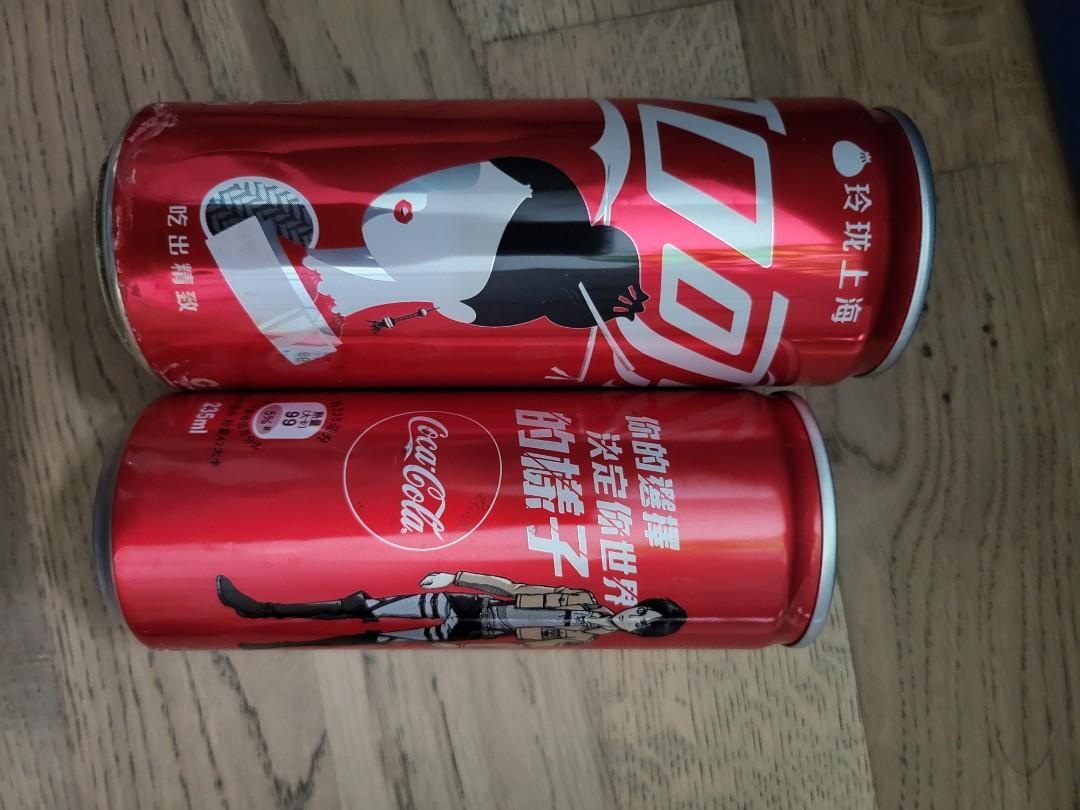metal: (104, 94, 937, 391), (110, 386, 849, 653)
